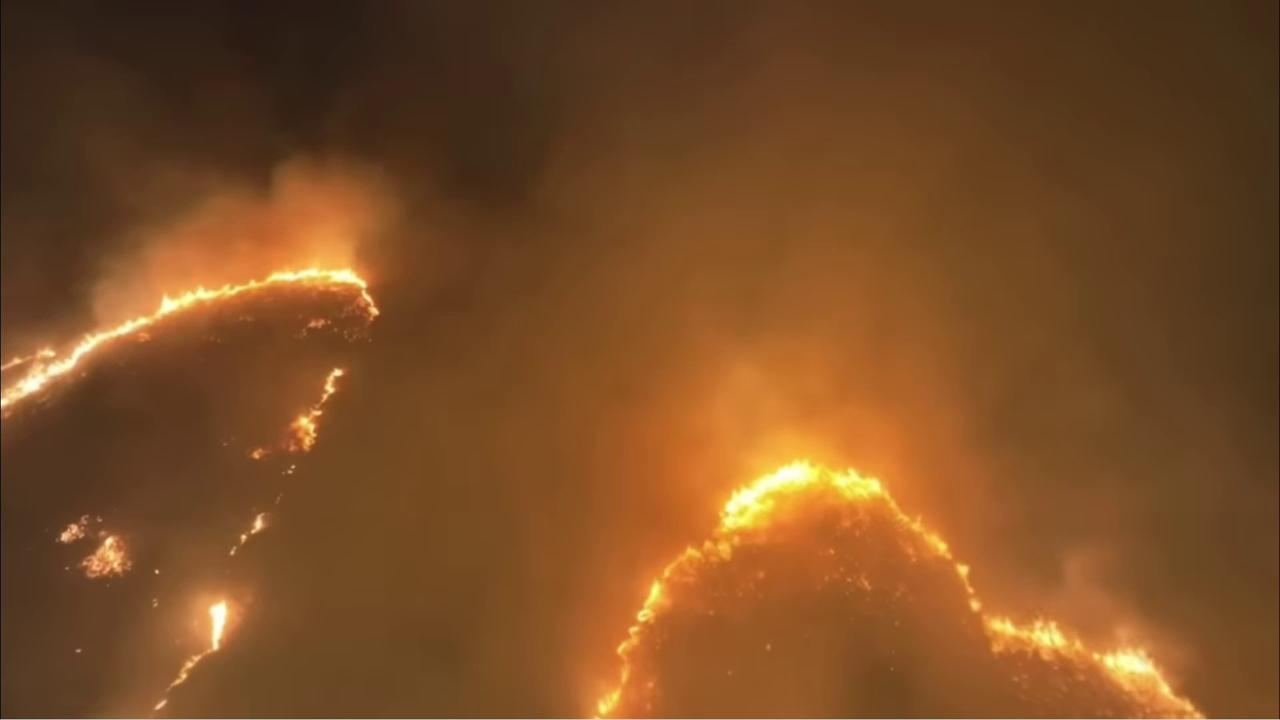fire: (587, 455, 1215, 720), (1, 261, 386, 426), (164, 598, 230, 693), (276, 365, 344, 457), (51, 514, 136, 585), (226, 510, 269, 558), (248, 446, 273, 462), (155, 698, 168, 711)
smoke: (0, 0, 1280, 720)
